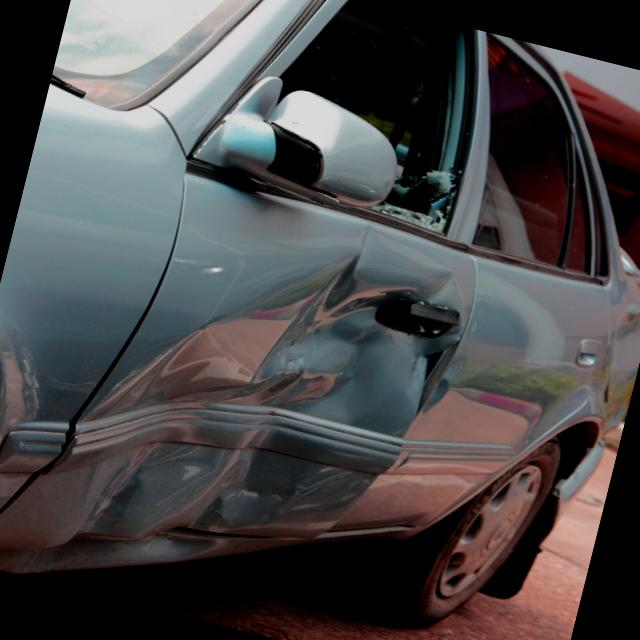Cabossage: (40, 198, 466, 621)
